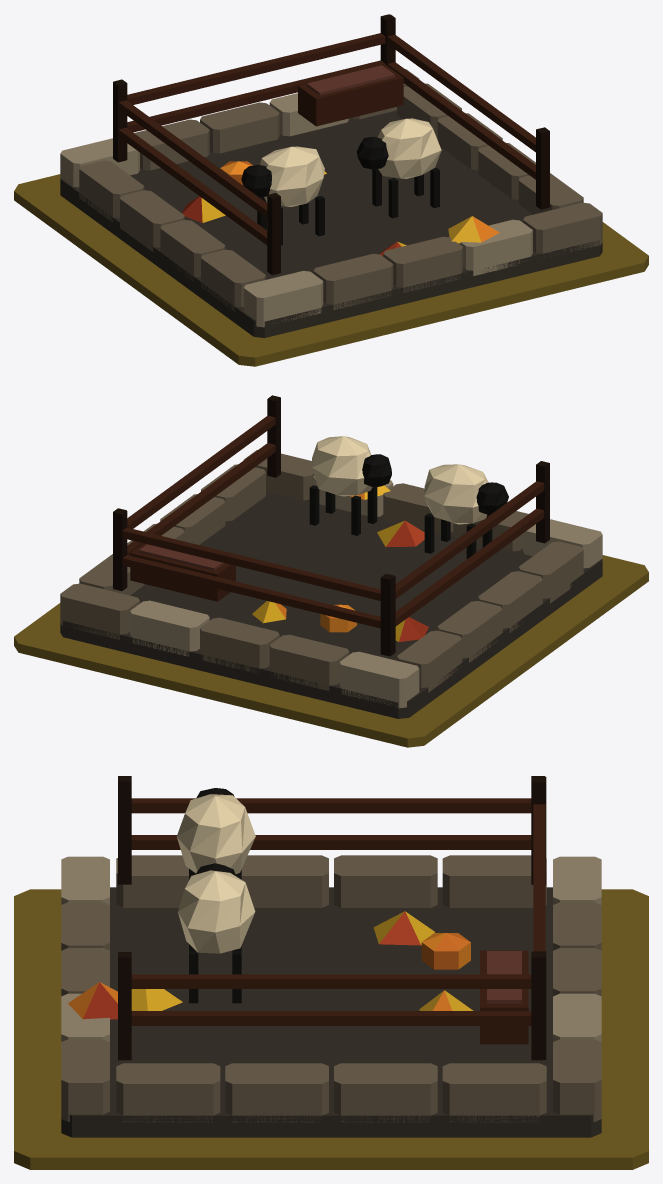
The model's file is pasture_t1.glb.
3 renders of one model, top to bottom at view 1: azimuth 30°, elevation 25°; view 2: azimuth 150°, elevation 25°; view 3: azimuth 270°, elevation 25°, orthographic. The views are drawn at different scales.
Parts seen in each view (by area): view 1: MMR | pasture | T01 Architecture.001, MMR | pasture | Tier 01 Ground.001, MMR | pasture | T01 Autumn Dressing.001; view 2: MMR | pasture | T01 Architecture.001, MMR | pasture | Tier 01 Ground.001, MMR | pasture | T01 Autumn Dressing.001; view 3: MMR | pasture | T01 Architecture.001, MMR | pasture | Tier 01 Ground.001, MMR | pasture | T01 Autumn Dressing.001.
Part boxes in pixels (x1=…): MMR | pasture | T01 Architecture.001: x1=60, y1=14, x2=602, y2=337; MMR | pasture | Tier 01 Ground.001: x1=14, y1=174, x2=648, y2=366; MMR | pasture | T01 Autumn Dressing.001: x1=182, y1=161, x2=499, y2=256; MMR | pasture | T01 Architecture.001: x1=60, y1=395, x2=602, y2=718; MMR | pasture | Tier 01 Ground.001: x1=14, y1=555, x2=648, y2=747; MMR | pasture | T01 Autumn Dressing.001: x1=252, y1=485, x2=428, y2=641; MMR | pasture | T01 Architecture.001: x1=61, y1=776, x2=601, y2=1137; MMR | pasture | Tier 01 Ground.001: x1=14, y1=889, x2=648, y2=1169; MMR | pasture | T01 Autumn Dressing.001: x1=68, y1=911, x2=473, y2=1019.
Bounding box in the file's own units: 2.35 × 0.755 × 2.35.
Materials: 1 (1 with a texture image).
